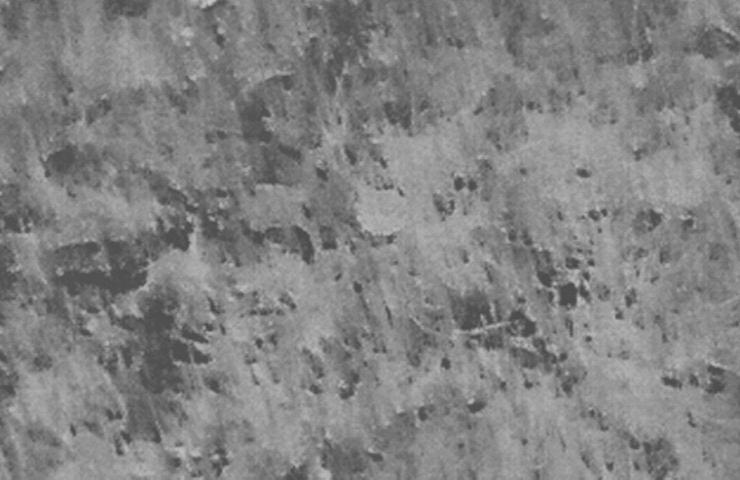landmines: (355, 184, 411, 241)
